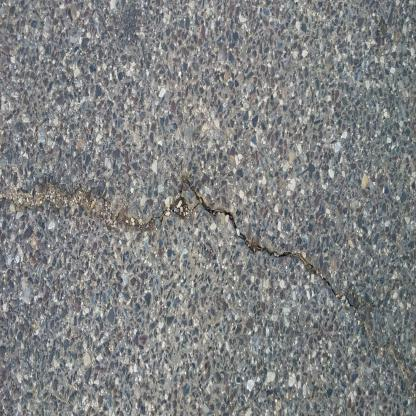Cracks: (0, 164, 415, 408)
